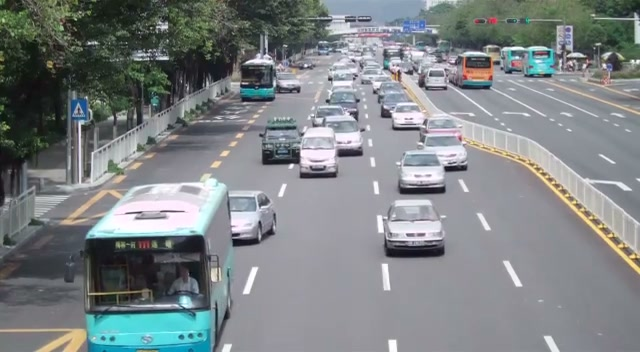bus: (76, 180, 236, 352), (240, 57, 276, 102), (453, 51, 494, 88), (524, 46, 555, 77), (500, 46, 527, 74)
car: (379, 197, 447, 257), (228, 189, 278, 244), (396, 150, 447, 194), (299, 126, 339, 178), (260, 116, 302, 165), (323, 115, 363, 156), (328, 89, 360, 122), (391, 102, 426, 131), (380, 91, 410, 117)
pedestrian: (167, 264, 200, 295)
